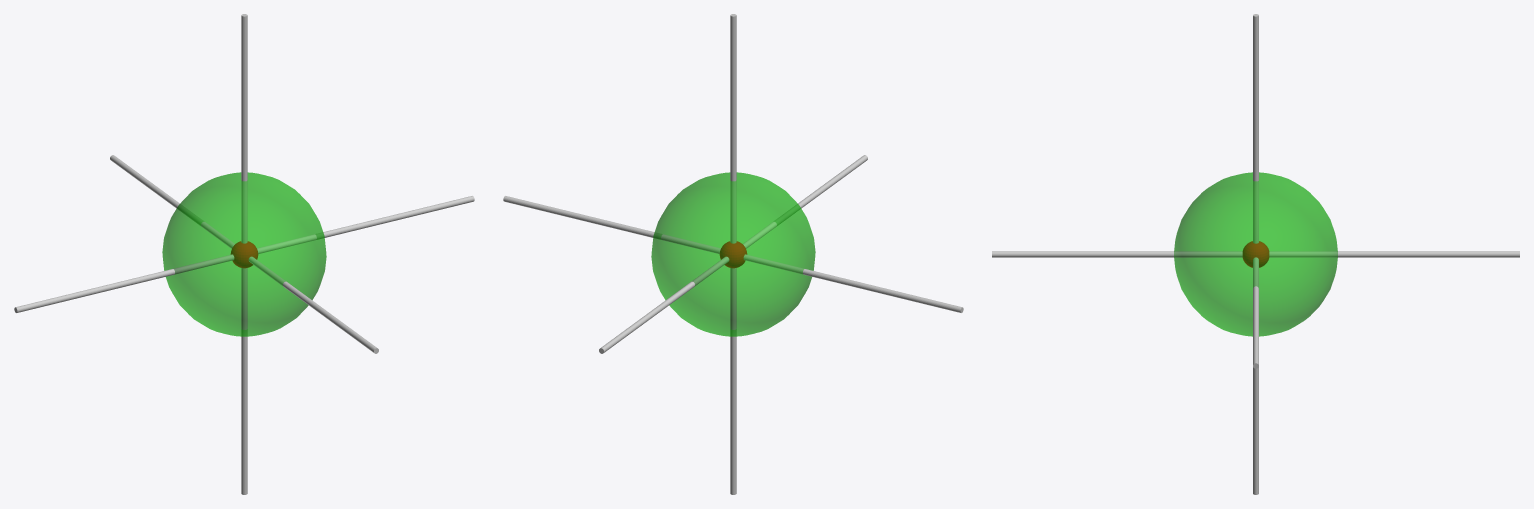
Rendered from orbital_s.obj.
The picture shows the model from 3 angles, left to right: view 1: azimuth 30°, elevation 25°; view 2: azimuth 150°, elevation 25°; view 3: azimuth 270°, elevation 25°; orthographic projection.
Parts seen in each view (by area): view 1: Sphere.001_Sphere.318, Cylinder_Cylinder.263, Cylinder.002_Cylinder.265, Cylinder.001_Cylinder.264, Sphere_Sphere.317; view 2: Sphere.001_Sphere.318, Cylinder_Cylinder.263, Cylinder.002_Cylinder.265, Cylinder.001_Cylinder.264, Sphere_Sphere.317; view 3: Sphere.001_Sphere.318, Cylinder.001_Cylinder.264, Cylinder_Cylinder.263, Cylinder.002_Cylinder.265.
Part boxes in pixels (x1,y1,x2,y2): Sphere.001_Sphere.318: (162, 172, 326, 336); Cylinder_Cylinder.263: (241, 14, 247, 494); Cylinder.002_Cylinder.265: (14, 196, 474, 312); Cylinder.001_Cylinder.264: (110, 155, 378, 353); Sphere_Sphere.317: (231, 241, 258, 268); Sphere.001_Sphere.318: (651, 172, 815, 336); Cylinder_Cylinder.263: (730, 14, 736, 494); Cylinder.002_Cylinder.265: (503, 196, 963, 312); Cylinder.001_Cylinder.264: (599, 155, 867, 353); Sphere_Sphere.317: (719, 241, 746, 268); Sphere.001_Sphere.318: (1174, 172, 1337, 336); Cylinder.001_Cylinder.264: (992, 251, 1519, 257); Cylinder_Cylinder.263: (1253, 14, 1258, 494); Cylinder.002_Cylinder.265: (1253, 257, 1258, 368).
Bounding box in the file's own units: 6.42 × 6.42 × 6.42.
